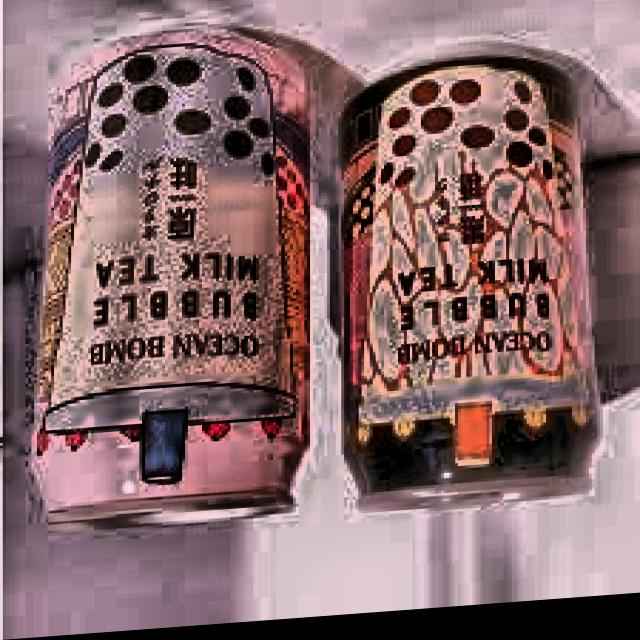can: (21, 19, 322, 549), (327, 37, 610, 533)
